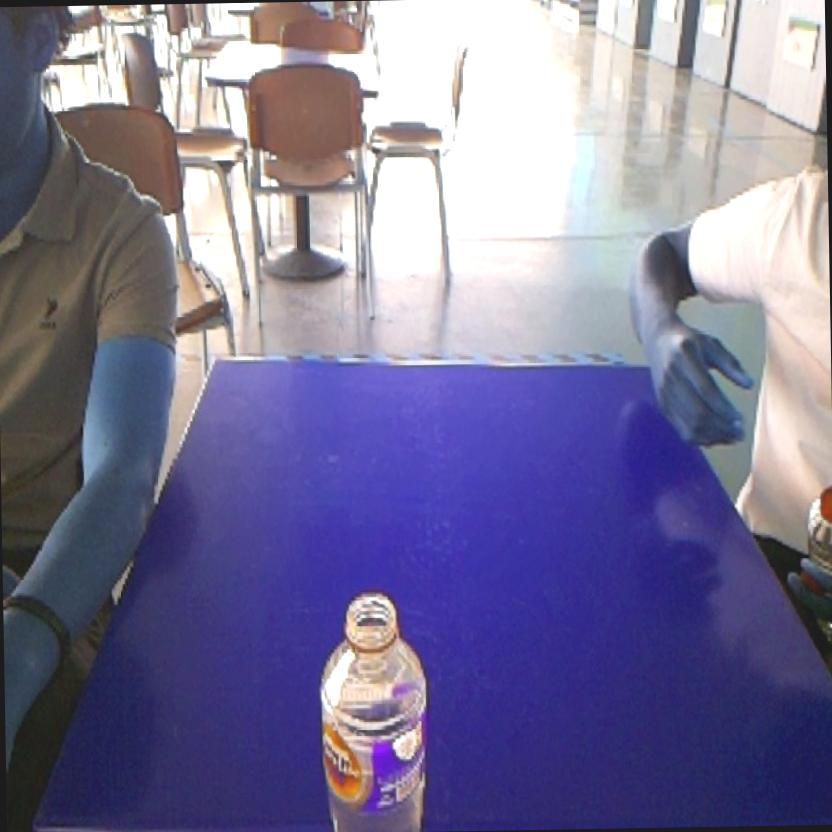no_cap: (303, 577, 438, 832)
